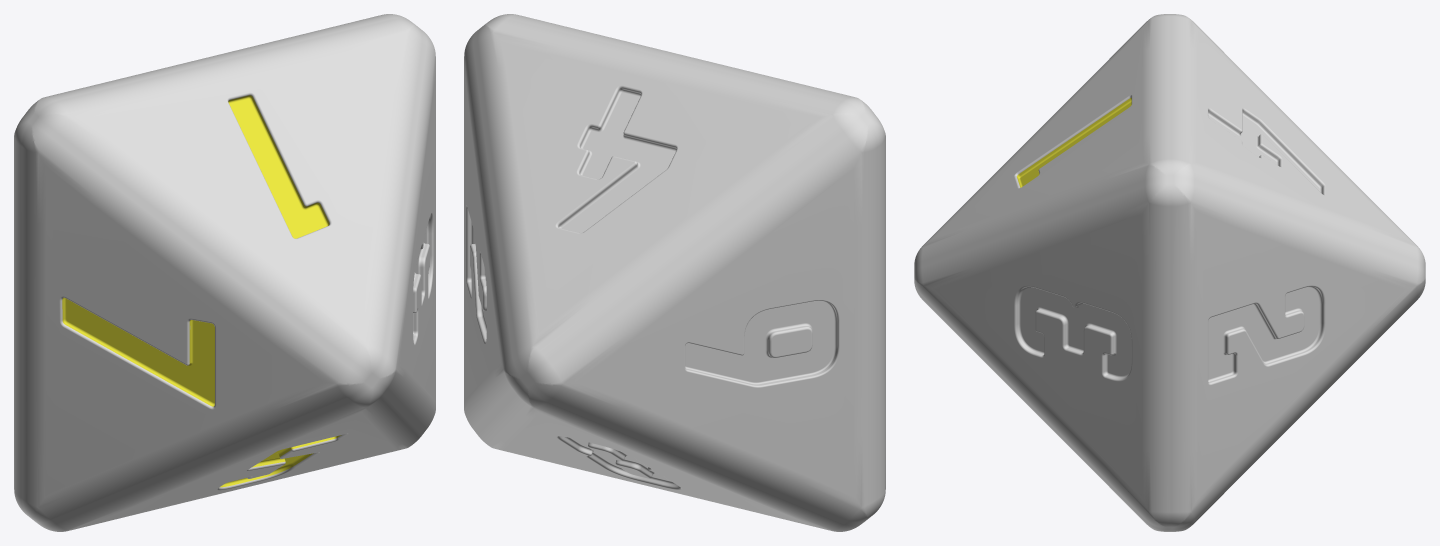
The model's file is Dice_d8_HP.fbx.
The picture shows the model from 3 angles, left to right: view 1: azimuth 30°, elevation 25°; view 2: azimuth 150°, elevation 25°; view 3: azimuth 270°, elevation 25°; orthographic projection. The views are drawn at different scales.
Visible parts, largest first — view 1: Dice_d8_HP; view 2: Dice_d8_HP; view 3: Dice_d8_HP.
Boxes of the visible parts, x1,y1,x2,y2 form: Dice_d8_HP: [14, 14, 435, 531]; Dice_d8_HP: [464, 14, 885, 531]; Dice_d8_HP: [914, 14, 1425, 531].
Size of the model in its own units: 142 by 142 by 177.
